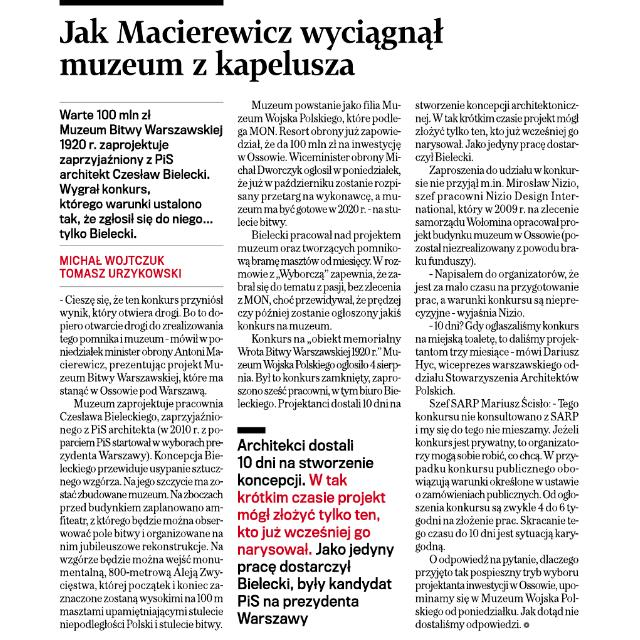author: (56, 249, 186, 283)
body: (413, 91, 585, 634), (55, 290, 227, 634), (232, 94, 410, 416), (230, 420, 402, 628)
lead: (56, 105, 225, 243)
title: (55, 15, 449, 84)
